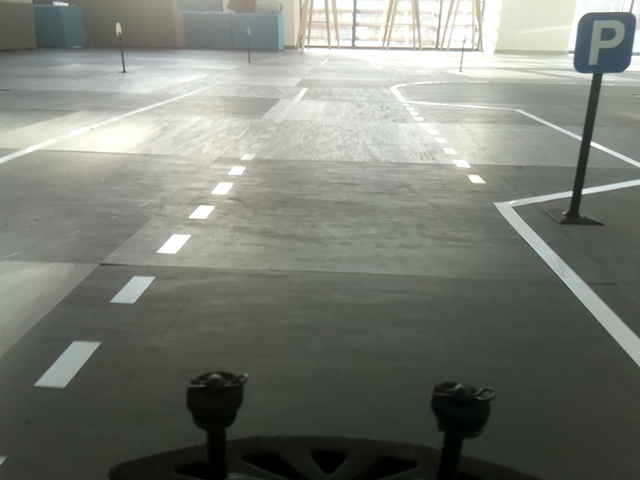parking: (575, 13, 636, 74)
